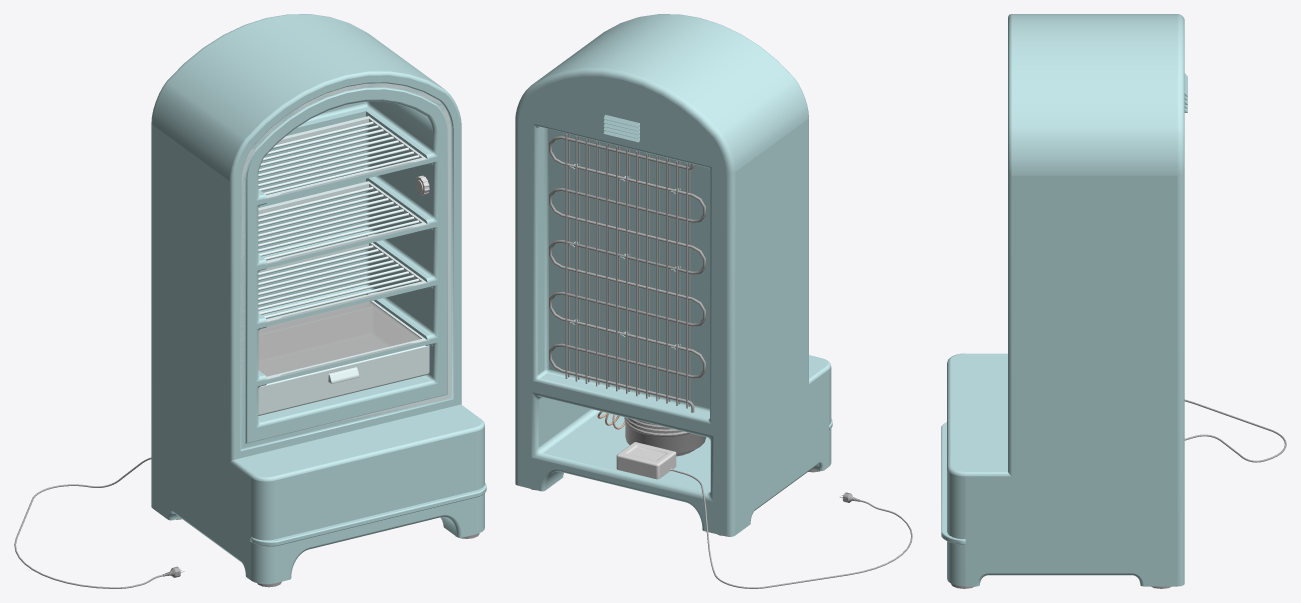
File: frame.dae
3 views of the same model, side by side, from view 1: azimuth 30°, elevation 25°; view 2: azimuth 150°, elevation 25°; view 3: azimuth 270°, elevation 25° (orthographic). The views are drawn at different scales.
Parts seen in each view (by area): view 1: group_8.004, group_8.002, group_17.011, group_8.005, instance_54.003, instance_54.002, group_20, group_8.003, group_17.010, instance_52.001, instance_53.001, instance_51.001 (+2 smaller); view 2: group_8.004, group_8.006, group_8.007, group_5.001, group_7.001, group_1.011, group_0.004, instance_3.011, instance_11.001, instance_6.001, instance_4.015, instance_1.009 (+1 smaller); view 3: group_8.004, group_0.004.
Boxes of the visible parts, bbox=[...] form: group_8.004: bbox=[151, 14, 486, 584]; group_8.002: bbox=[256, 99, 437, 427]; group_17.011: bbox=[247, 89, 446, 442]; group_8.005: bbox=[245, 87, 447, 443]; instance_54.003: bbox=[258, 301, 420, 376]; instance_54.002: bbox=[259, 303, 417, 375]; group_20: bbox=[258, 345, 429, 415]; group_8.003: bbox=[240, 82, 453, 451]; group_17.010: bbox=[241, 83, 451, 448]; instance_52.001: bbox=[258, 181, 429, 264]; instance_53.001: bbox=[264, 116, 429, 199]; instance_51.001: bbox=[258, 242, 429, 322]; group_8.004: bbox=[515, 14, 832, 536]; group_8.006: bbox=[533, 123, 711, 424]; group_8.007: bbox=[531, 392, 713, 501]; group_5.001: bbox=[549, 136, 705, 412]; group_7.001: bbox=[624, 417, 706, 456]; group_1.011: bbox=[616, 442, 676, 479]; group_0.004: bbox=[672, 469, 912, 588]; instance_3.011: bbox=[565, 134, 567, 378]; instance_11.001: bbox=[585, 139, 587, 383]; instance_6.001: bbox=[575, 136, 577, 381]; instance_4.015: bbox=[678, 161, 680, 404]; instance_1.009: bbox=[668, 158, 670, 401]; group_8.004: bbox=[941, 14, 1184, 586]; group_0.004: bbox=[1184, 399, 1286, 462].
Bounding box in the file's own units: 2.04 × 1.5 × 2.39.
